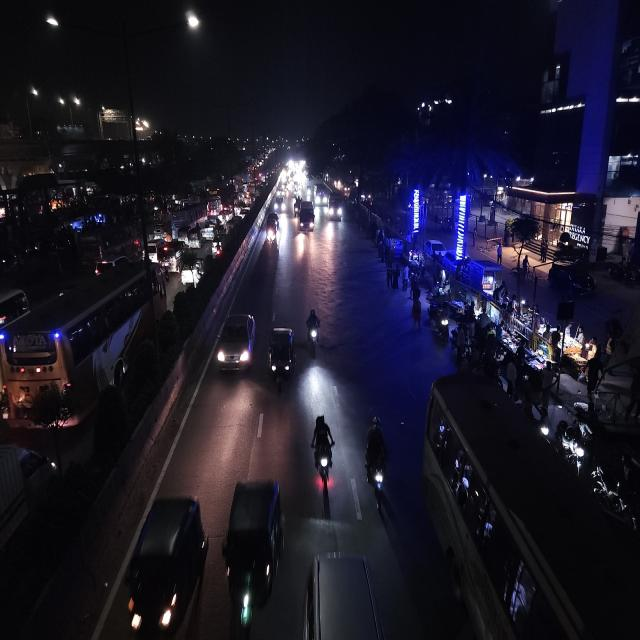bus: (423, 372, 639, 640), (0, 258, 164, 431), (318, 184, 345, 224), (170, 200, 200, 236), (314, 182, 328, 210)
car: (0, 434, 66, 638), (216, 307, 257, 380), (0, 283, 31, 328), (179, 252, 205, 293), (157, 241, 183, 273), (296, 198, 316, 236), (93, 255, 129, 276), (210, 233, 224, 260), (273, 192, 285, 215)
cng: (125, 492, 209, 640), (222, 474, 286, 638), (267, 321, 297, 396), (185, 228, 203, 250), (264, 220, 279, 242)
motorcycle: (362, 414, 390, 512), (309, 410, 336, 489), (554, 418, 588, 471), (305, 306, 323, 357)
pedestrian: (408, 285, 424, 332), (400, 263, 410, 293)
truck: (296, 197, 315, 237)
